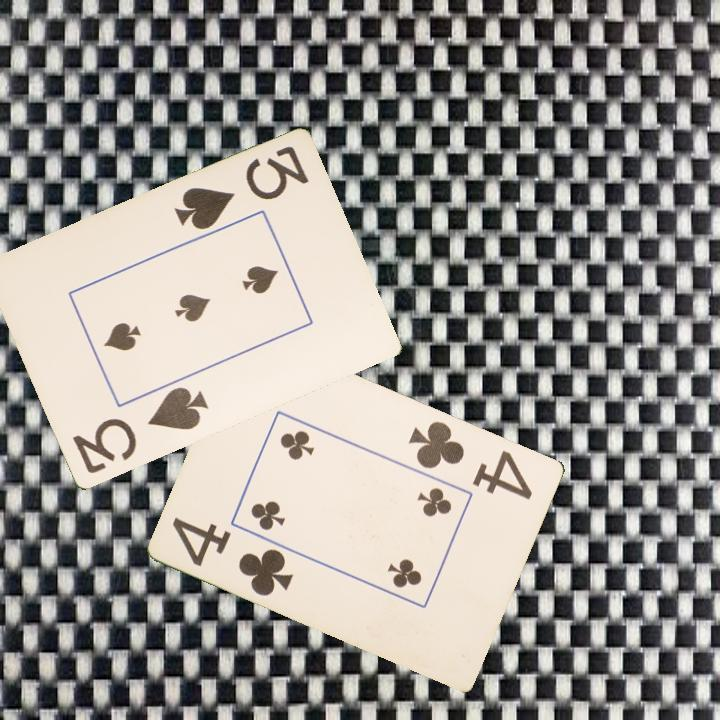3s: (69, 383, 211, 478), (170, 143, 312, 234)
4c: (405, 417, 536, 503), (169, 513, 297, 599)
